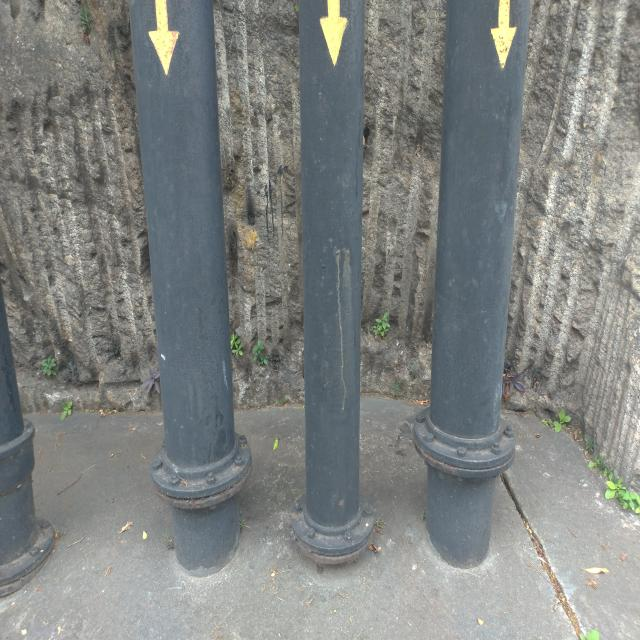gas: (124, 0, 250, 572), (414, 0, 533, 569), (290, 0, 379, 562)
